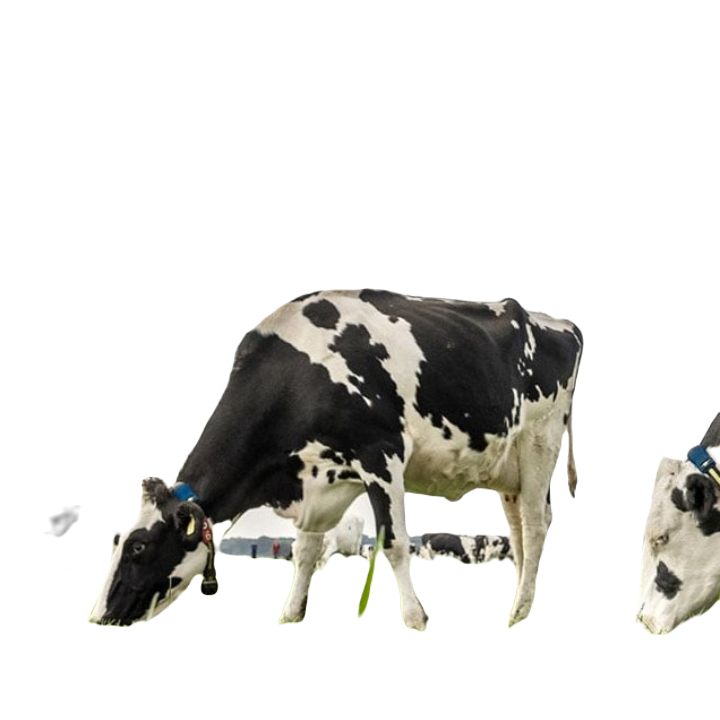Cow: (86, 285, 584, 624)
